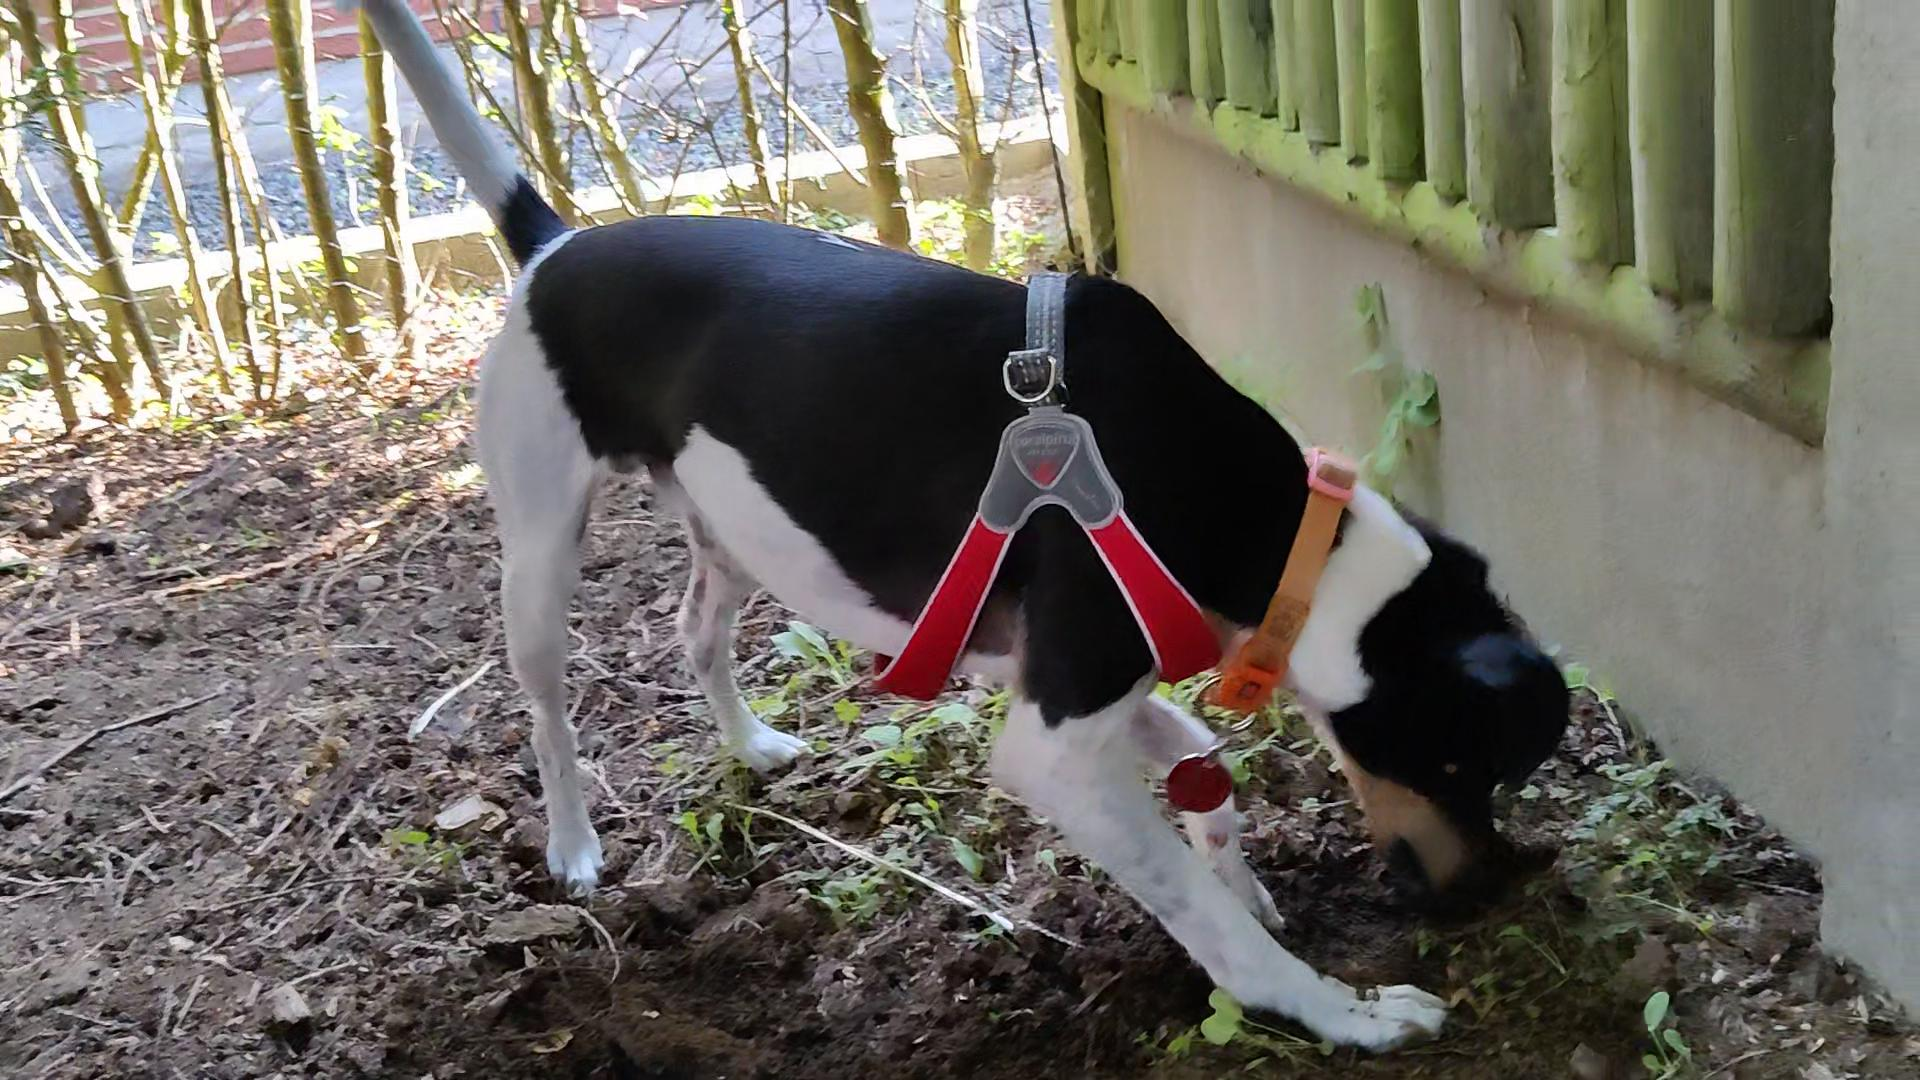Dog: (328, 0, 1580, 1056)
